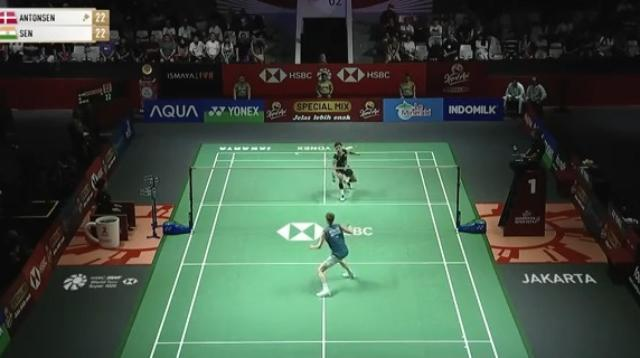Shuttlecock: (293, 148, 305, 160)
